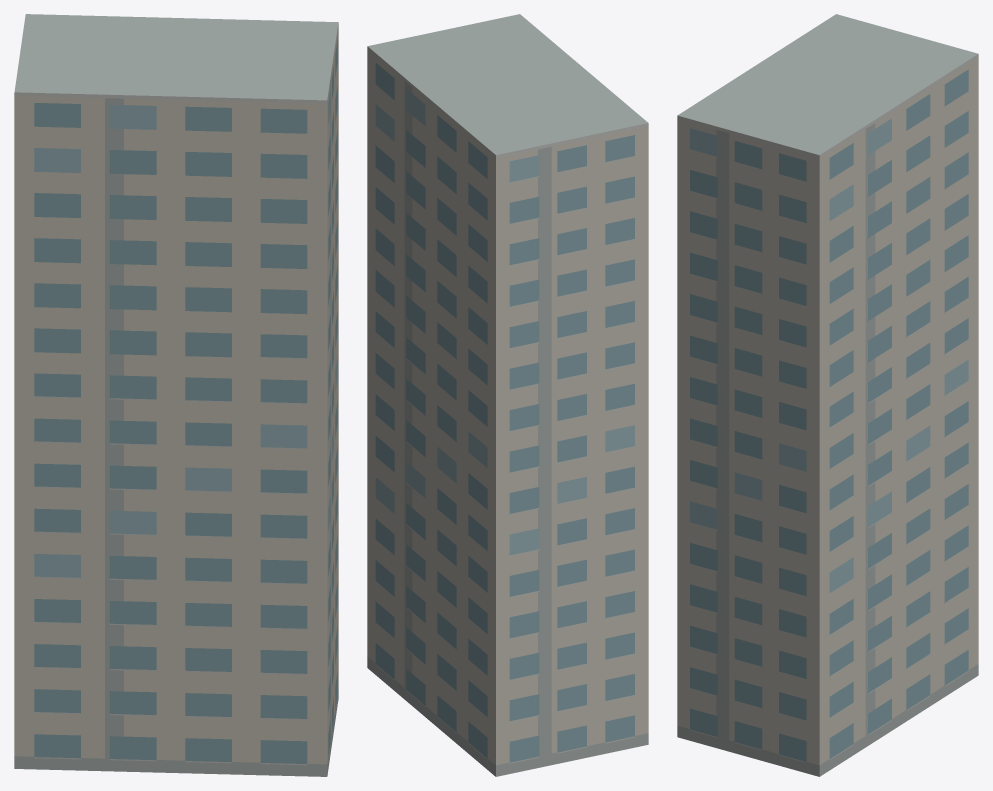
Rendered from residential-5bacaaba-32a9-44e1-abc2-08209bb75de3.glb.
The picture shows the model from 3 angles, left to right: view 1: azimuth 30°, elevation 25°; view 2: azimuth 150°, elevation 25°; view 3: azimuth 270°, elevation 25°; orthographic projection. The views are drawn at different scales.
Parts seen in each view (by area): view 1: residential-5bacaaba-32a9-44e1-abc2-08209bb75de3.tmp; view 2: residential-5bacaaba-32a9-44e1-abc2-08209bb75de3.tmp; view 3: residential-5bacaaba-32a9-44e1-abc2-08209bb75de3.tmp.
Part boxes in pixels (bbox=[...]): residential-5bacaaba-32a9-44e1-abc2-08209bb75de3.tmp: bbox=[14, 14, 338, 776]; residential-5bacaaba-32a9-44e1-abc2-08209bb75de3.tmp: bbox=[367, 14, 648, 776]; residential-5bacaaba-32a9-44e1-abc2-08209bb75de3.tmp: bbox=[677, 14, 978, 776].
Size of the model in its own units: 22.91 by 47 by 20.65.
